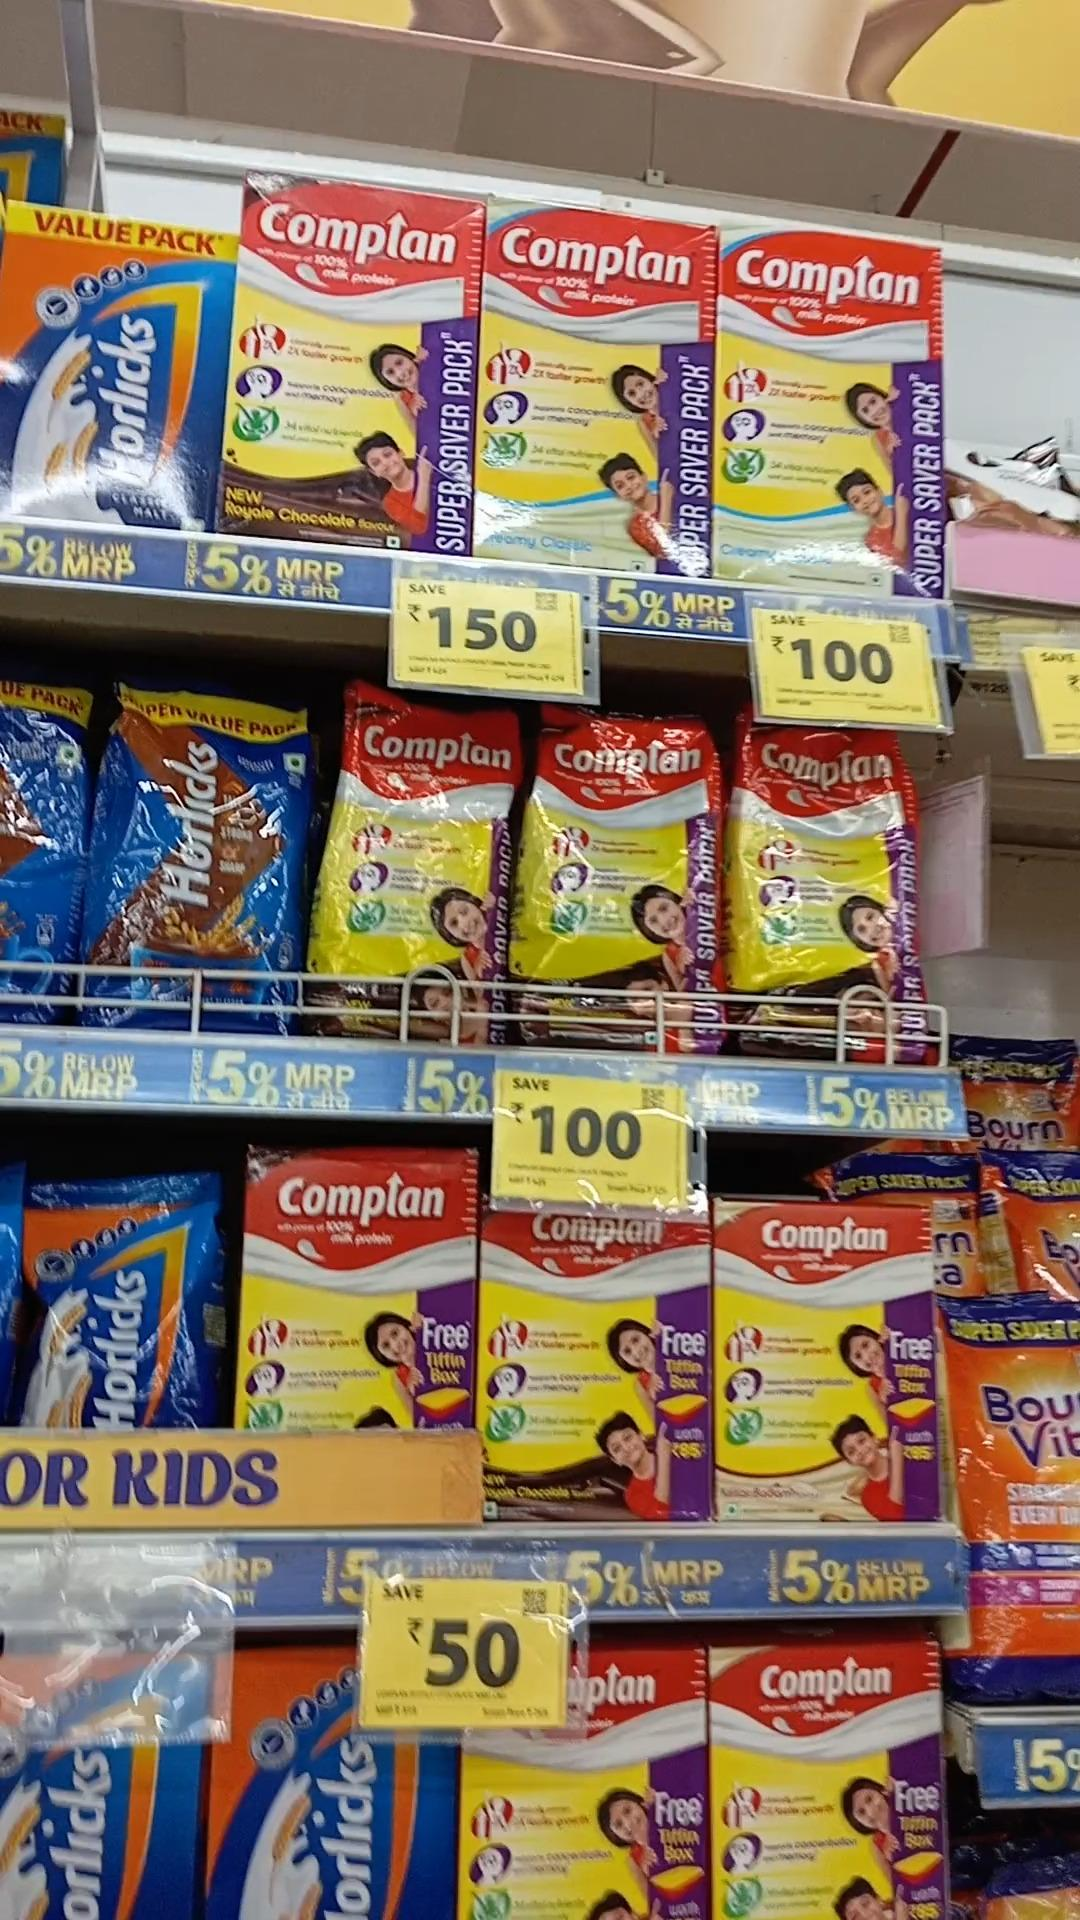COMPLAN_CHOCOLATE_1_KG_PACK: (228, 182, 463, 554)
COMPLAN_CHOCOLATE_500_GMS_PACK: (715, 1200, 940, 1524), (481, 1207, 711, 1524), (240, 1147, 477, 1432)
COMPLAN_RC_POUCH_700_GMS_12: (303, 688, 521, 1050), (535, 708, 731, 1047), (741, 729, 930, 1059)
HORLICK_CHOCOLATE_750_G_POUCH: (87, 686, 295, 1029)
HORLICK_CLASSIC_MALT_750_G_POUCH: (24, 1159, 216, 1429)
